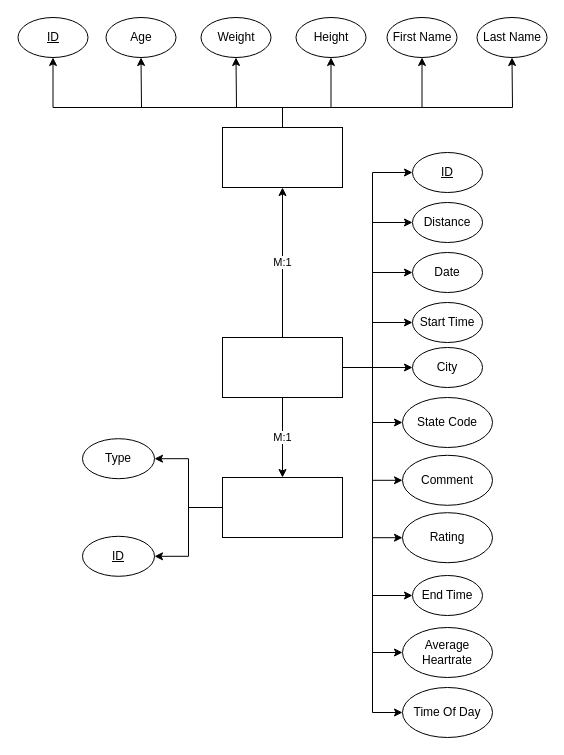
Some shapes in this 564 by 755 pixel diagram are drawn without their labels. Here are the shapes that lost their labels. From the top down, the box of each, then its label:
(222, 126, 342, 188): Person
(222, 336, 342, 398): Evaluation
(222, 476, 342, 538): Workout
